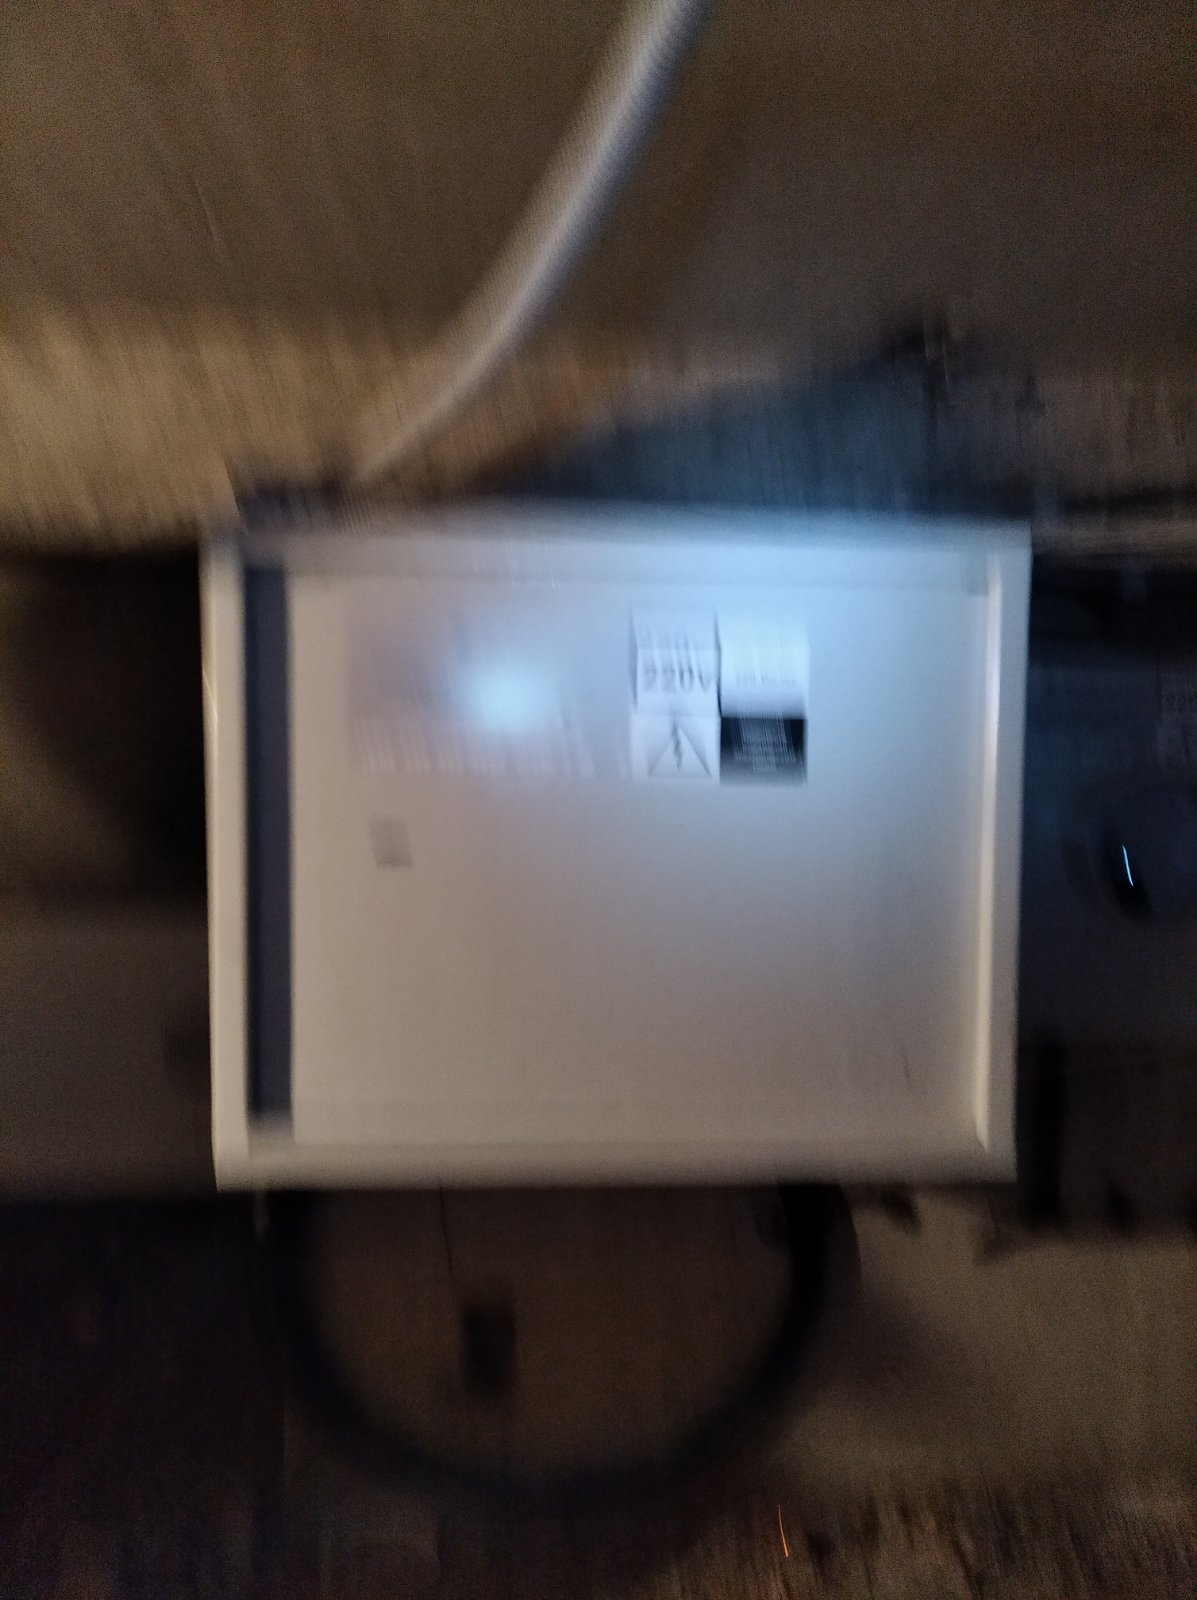shta-9m: (174, 500, 1051, 1202)
